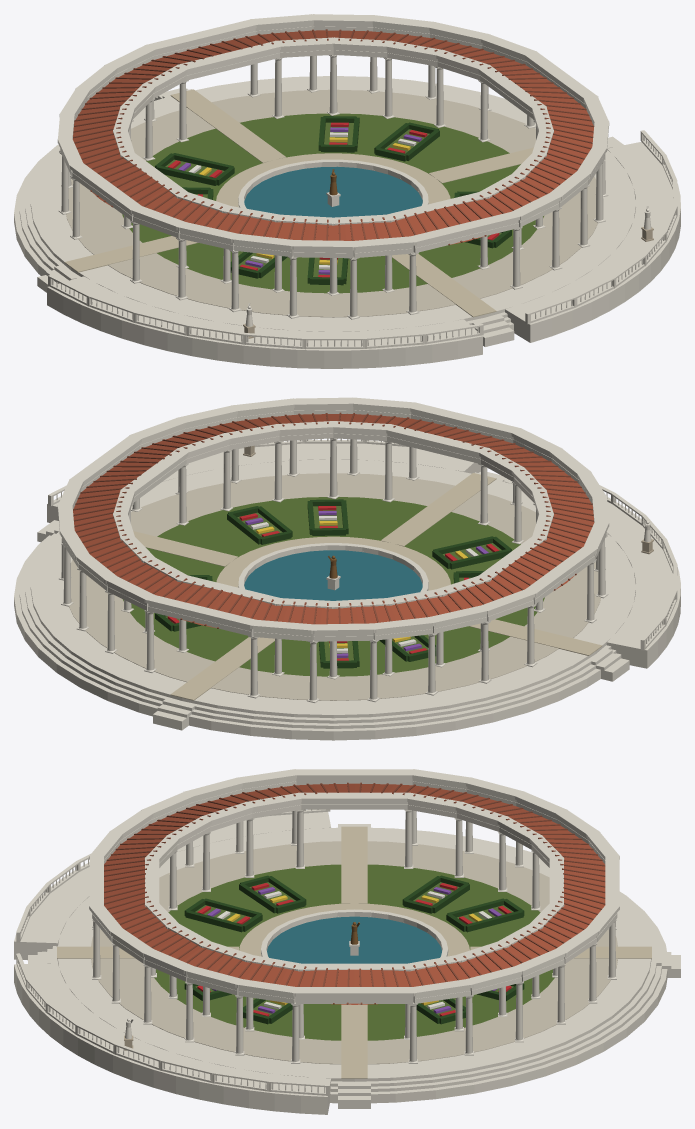
Rendered from ant_rotunda.glb.
The picture shows the model from 3 angles, top to bottom: view 1: azimuth 30°, elevation 25°; view 2: azimuth 150°, elevation 25°; view 3: azimuth 270°, elevation 25°; orthographic projection.
Parts seen in each view (by area): view 1: ant_rotunda; view 2: ant_rotunda; view 3: ant_rotunda.
Part boxes in pixels (x1=…): ant_rotunda: x1=14, y1=14, x2=680, y2=368; ant_rotunda: x1=14, y1=397, x2=680, y2=740; ant_rotunda: x1=14, y1=769, x2=680, y2=1114.
Size of the model in its own units: 61.81 by 9.09 by 60.53.
